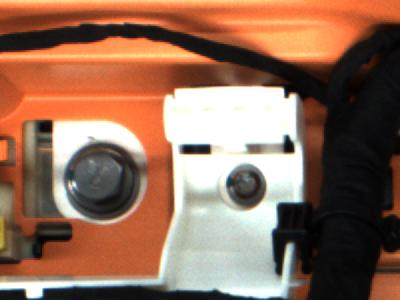nut_b: (62, 146, 148, 223)
